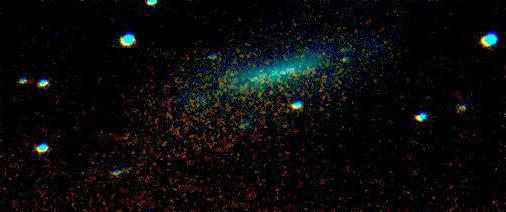star: (332, 45, 362, 75)
